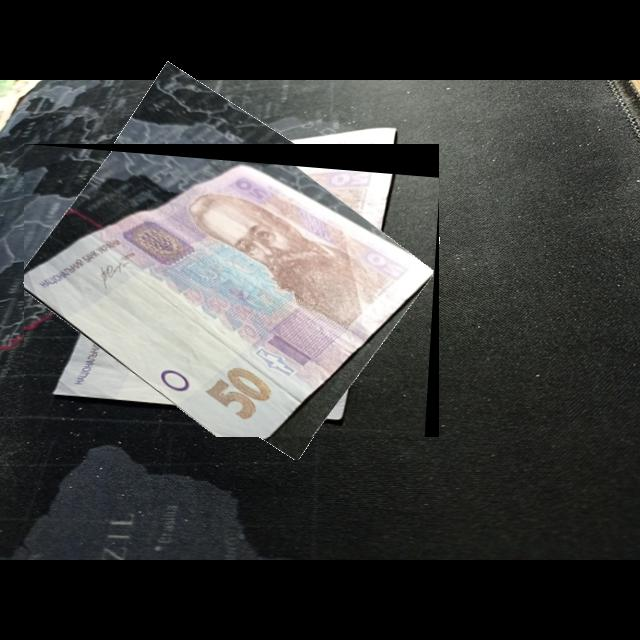50uah: (24, 159, 437, 438)
